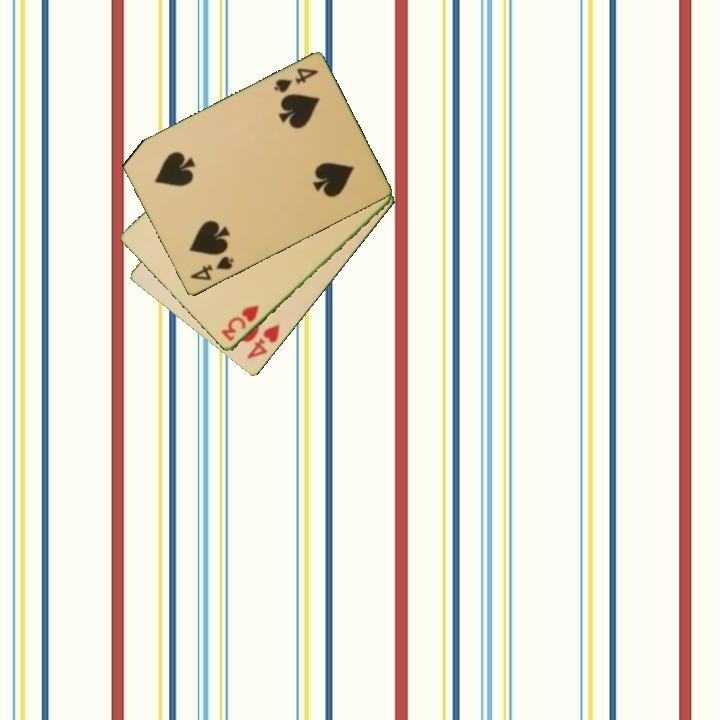3h: (217, 301, 262, 344)
4h: (243, 321, 283, 362)
4s: (186, 253, 237, 284), (270, 65, 321, 96)
